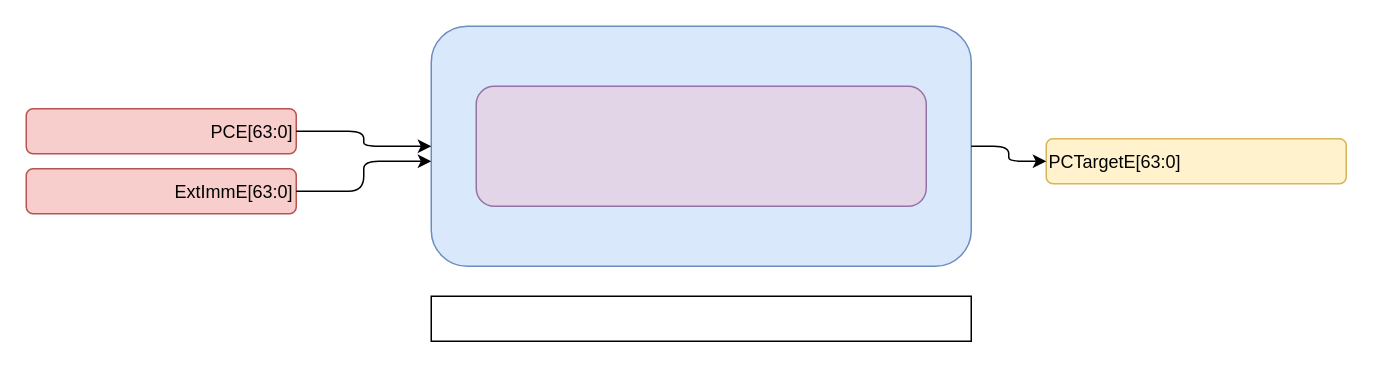
The diagram is 1373 pixels wide and 368 high, and some of its shapes have lost their labels. The box of each missing label's shape, as (x1, y1, x2, y2) in pixels:
PC Target Adder: (430, 295, 971, 341)
PC Target Compute PCTargetE = PCE + ExtImmE: (475, 85, 926, 206)
